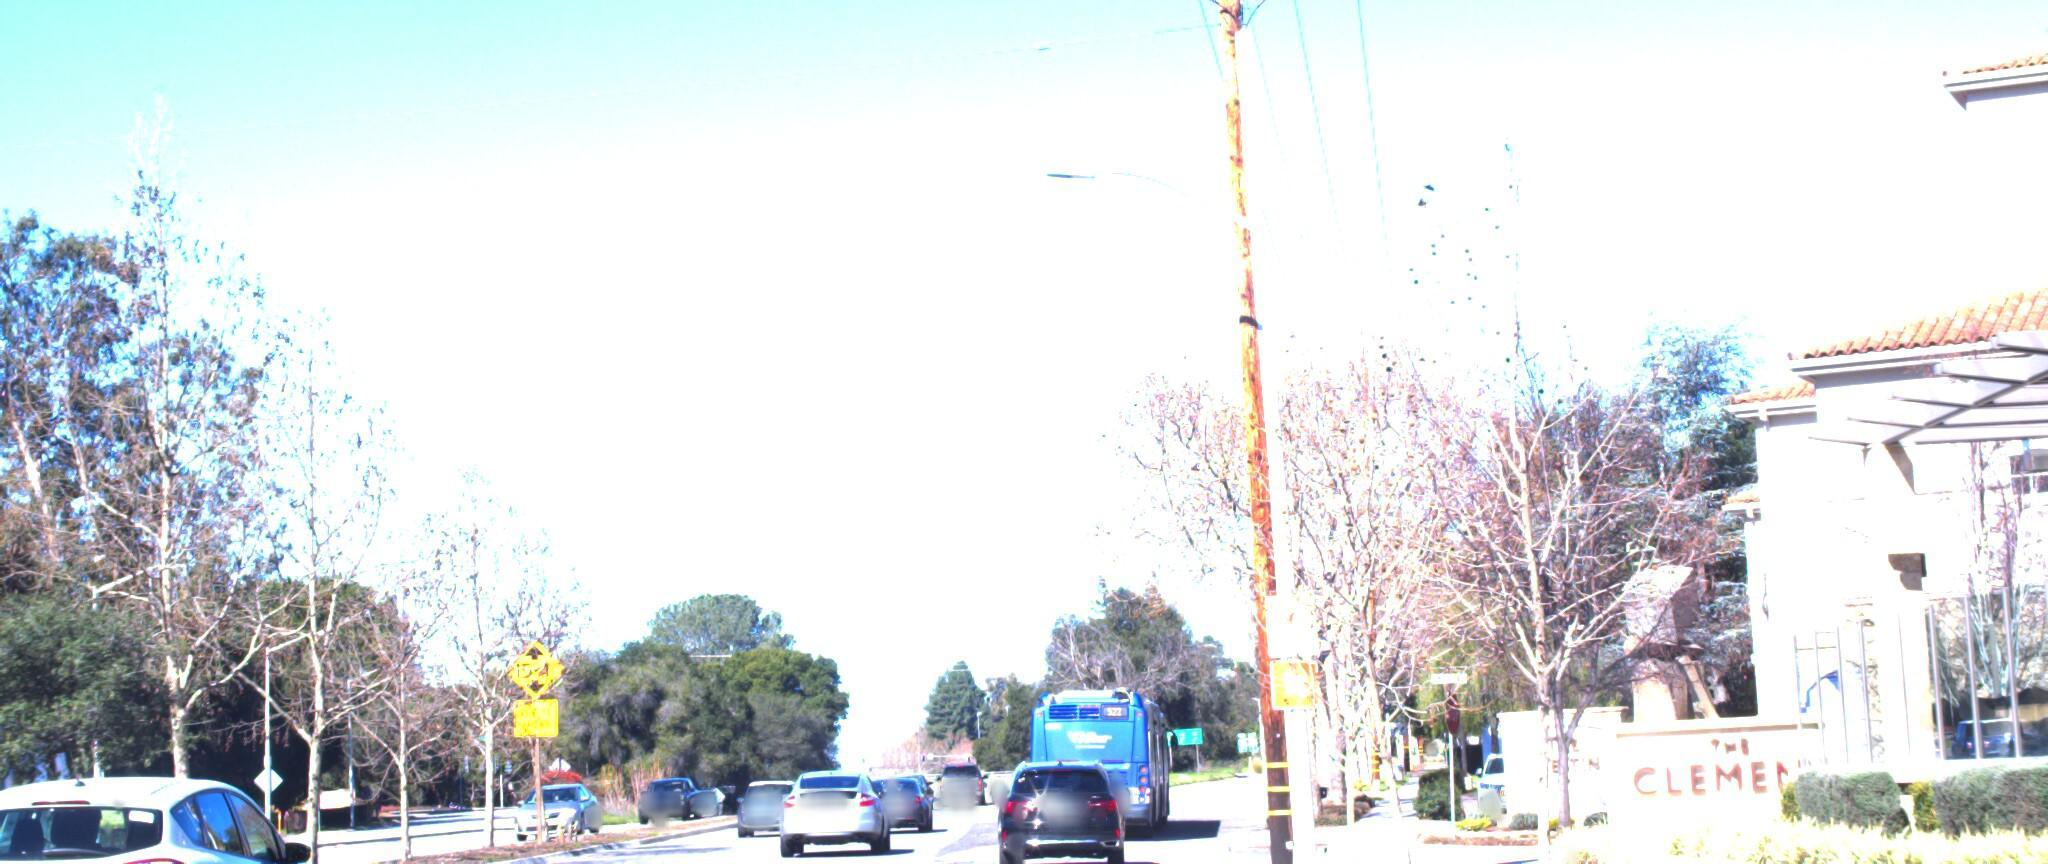bus: (1010, 673, 1169, 837)
car: (0, 747, 360, 864), (0, 683, 111, 864), (987, 745, 1128, 864), (763, 762, 889, 855)
